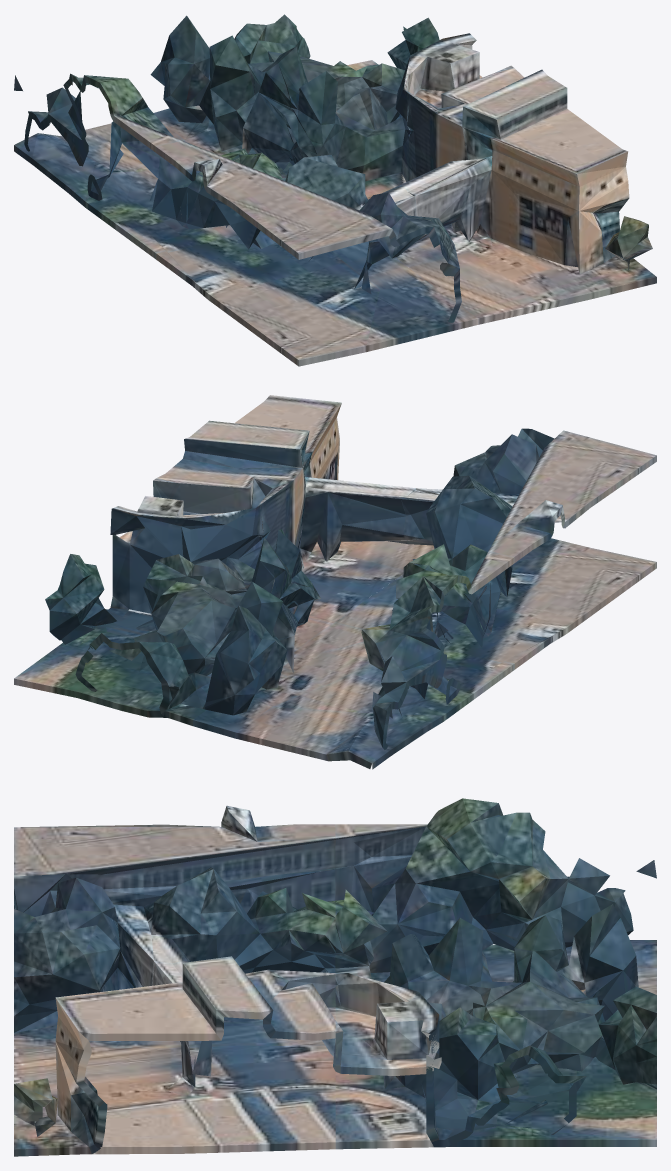
File: chunk_4_-7.glb
3 views of the same model, one above another, from view 1: azimuth 30°, elevation 25°; view 2: azimuth 150°, elevation 25°; view 3: azimuth 270°, elevation 25° (orthographic). The views are drawn at different scales.
Parts seen in each view (by area): view 1: hero-chunk; view 2: hero-chunk; view 3: hero-chunk.
Part boxes in pixels (box(x1,y1,x2,y2)): hero-chunk: box(14, 14, 656, 366); hero-chunk: box(14, 395, 656, 769); hero-chunk: box(14, 798, 656, 1156).
Size of the model in its own units: 55.42 by 21.08 by 76.32.
2 materials, 2 textured.
